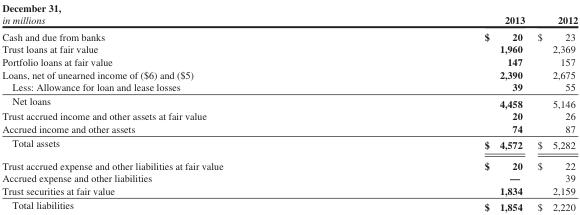table: (1, 1, 577, 212)
table column: (1, 1, 353, 212), (353, 1, 530, 212), (530, 1, 577, 212)
table column header: (1, 1, 577, 27)
table row: (1, 1, 577, 27), (1, 135, 577, 154), (1, 154, 577, 171), (1, 93, 577, 109), (1, 27, 577, 42), (1, 197, 577, 212), (1, 183, 577, 197), (1, 42, 577, 55), (1, 67, 577, 80), (1, 80, 577, 93), (1, 109, 577, 122), (1, 122, 577, 135), (1, 55, 577, 67), (1, 171, 577, 183)
